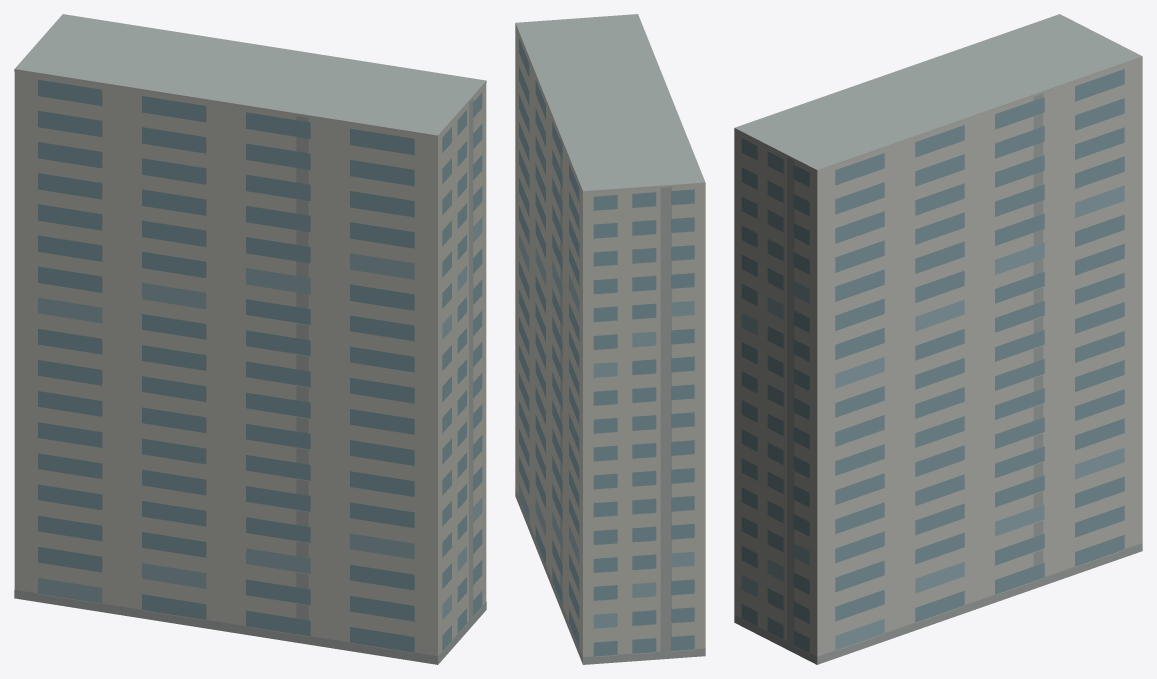
The model's file is residential-5eeeec3f-ebd6-49b0-9e80-3ba8693b62a4.glb.
3 views of the same model, side by side, from view 1: azimuth 30°, elevation 25°; view 2: azimuth 150°, elevation 25°; view 3: azimuth 270°, elevation 25° (orthographic). The views are drawn at different scales.
Parts seen in each view (by area): view 1: residential-5eeeec3f-ebd6-49b0-9e80-3ba8693b62a4.tmp; view 2: residential-5eeeec3f-ebd6-49b0-9e80-3ba8693b62a4.tmp; view 3: residential-5eeeec3f-ebd6-49b0-9e80-3ba8693b62a4.tmp.
Boxes of the visible parts, box(x1,y1,x2,y2) form: residential-5eeeec3f-ebd6-49b0-9e80-3ba8693b62a4.tmp: box(14, 14, 486, 664); residential-5eeeec3f-ebd6-49b0-9e80-3ba8693b62a4.tmp: box(515, 14, 705, 664); residential-5eeeec3f-ebd6-49b0-9e80-3ba8693b62a4.tmp: box(734, 14, 1142, 664).
Bounding box in the file's own units: 35.18 × 52 × 38.88.
